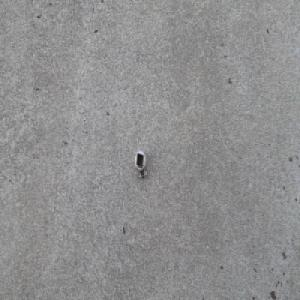MetalPart: (134, 149, 147, 182)
